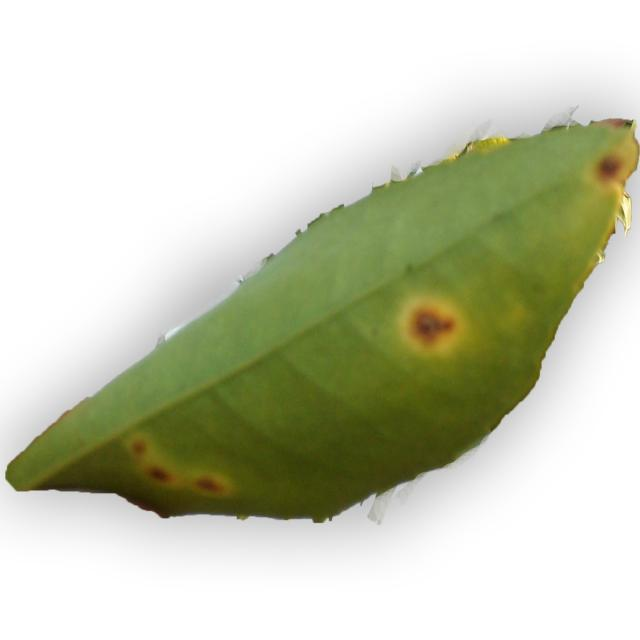canker: (13, 104, 636, 540)
